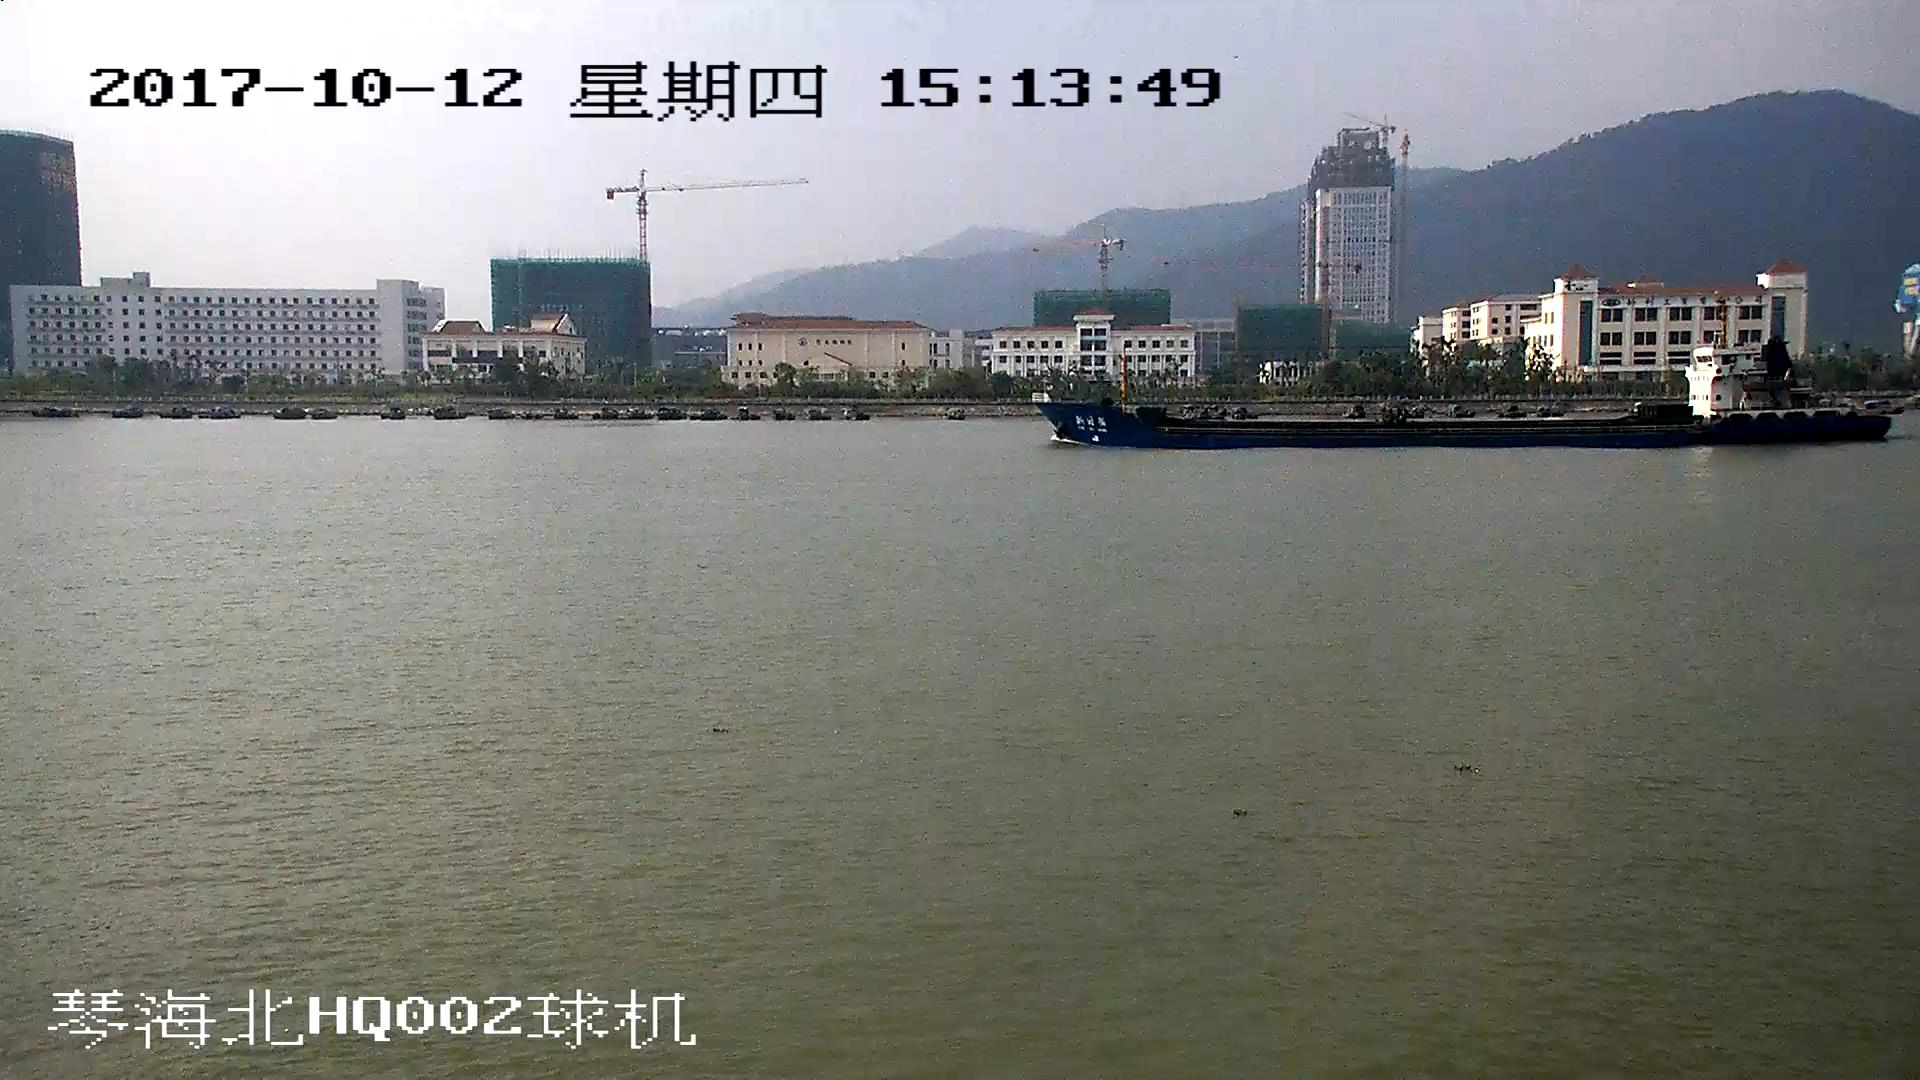general cargo ship: (1030, 320, 1893, 449)
